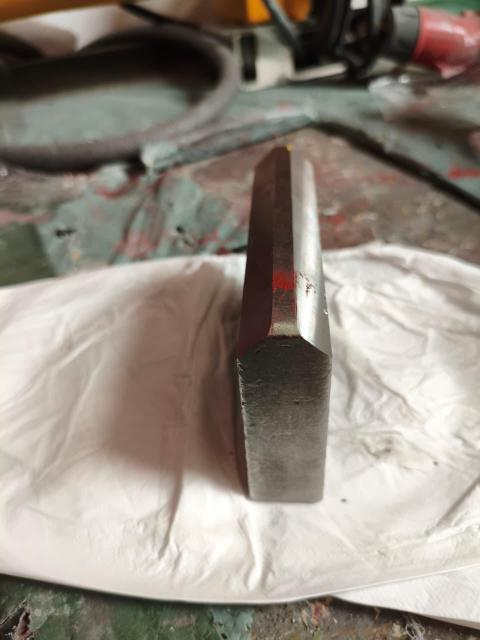Metal: (248, 148, 333, 508)
